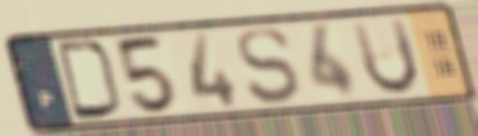4: (187, 29, 245, 112), (307, 18, 361, 105)
5: (112, 31, 180, 117)
D: (53, 38, 125, 122)
S: (233, 25, 303, 108)
U: (347, 14, 423, 99)
